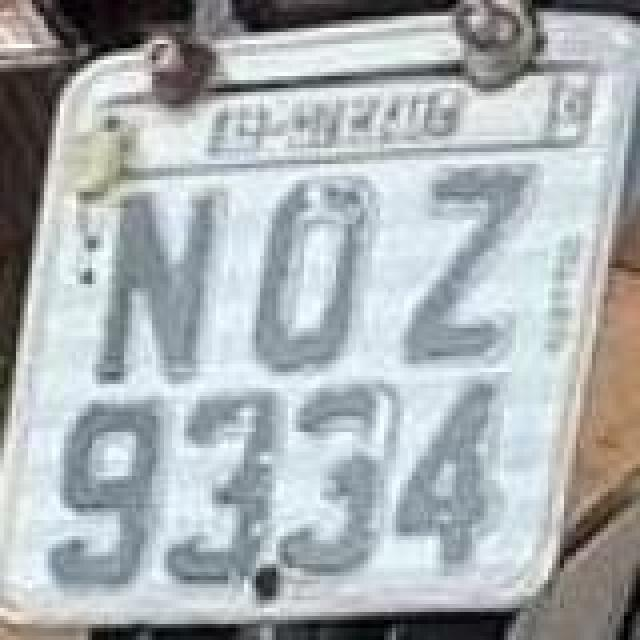3: (282, 378, 406, 582), (164, 386, 284, 590)
4: (394, 374, 502, 570)
9: (44, 400, 164, 592)
N: (98, 182, 222, 386)
O: (254, 170, 386, 366)
Z: (396, 160, 532, 368)
